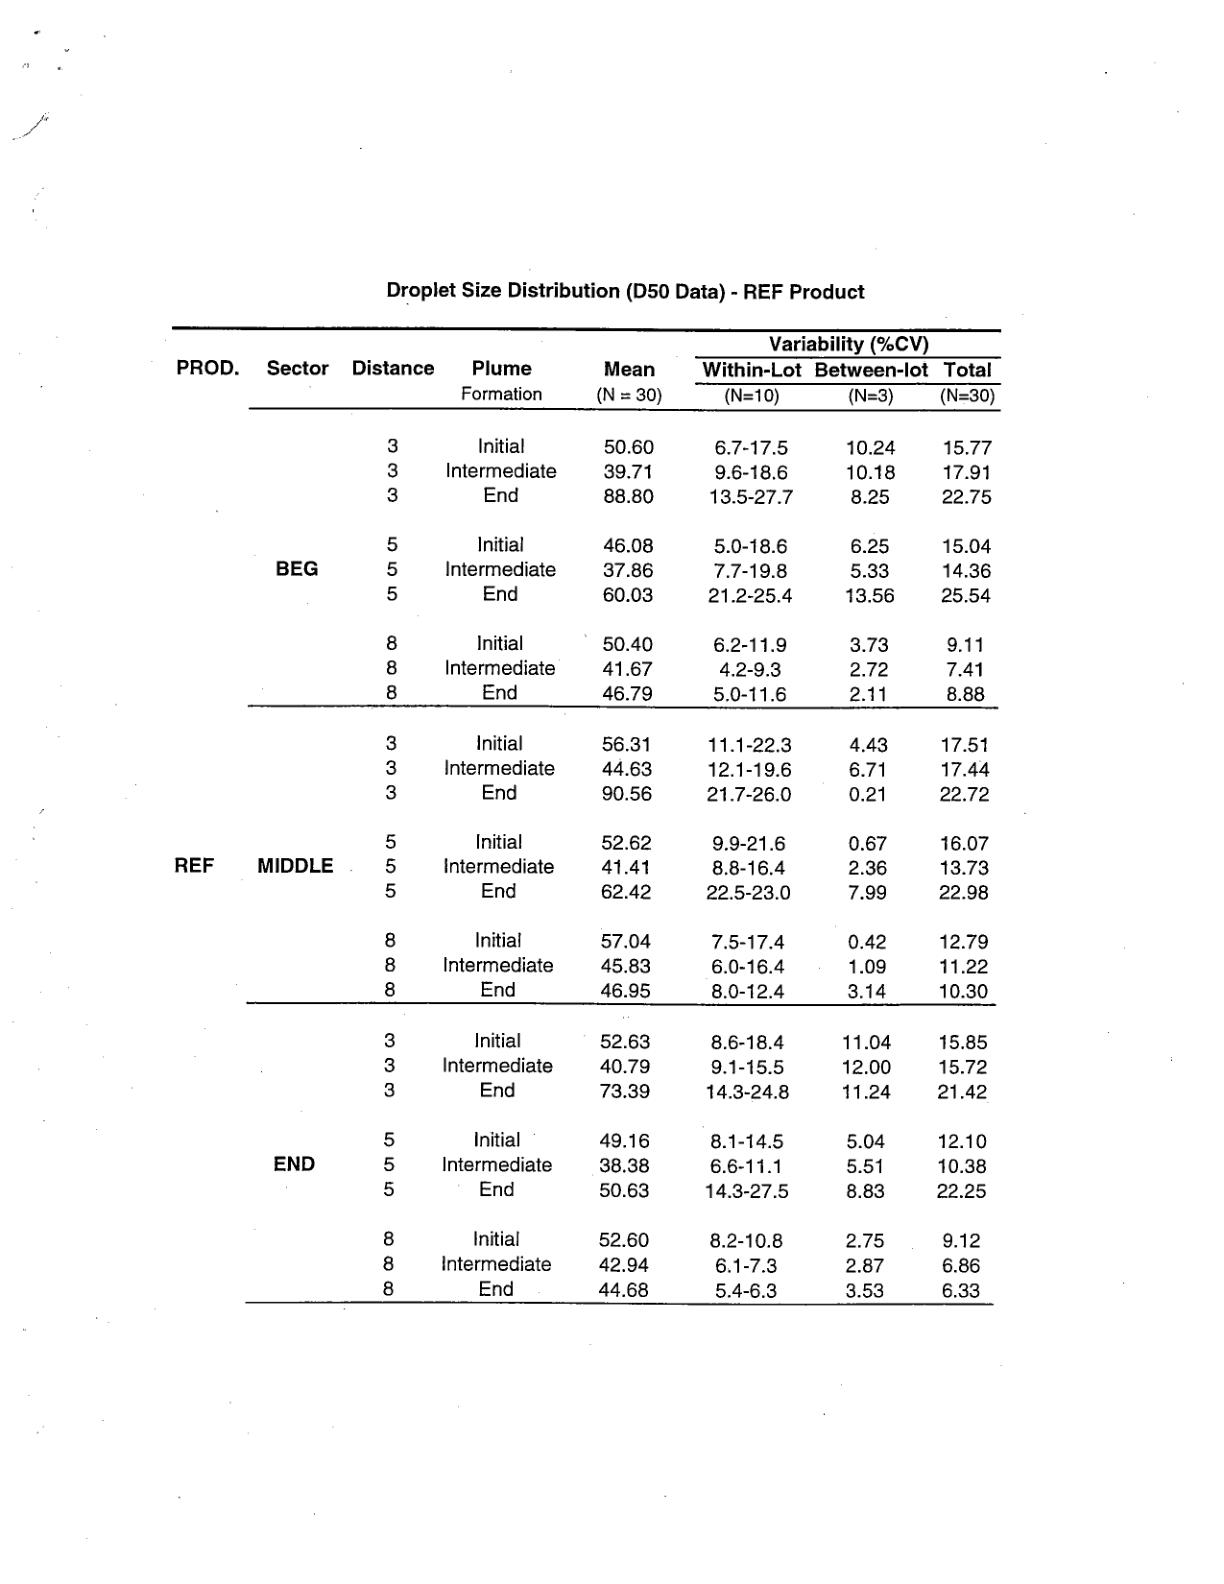partial_lined_merged_cells: (168, 325, 1005, 1309)
